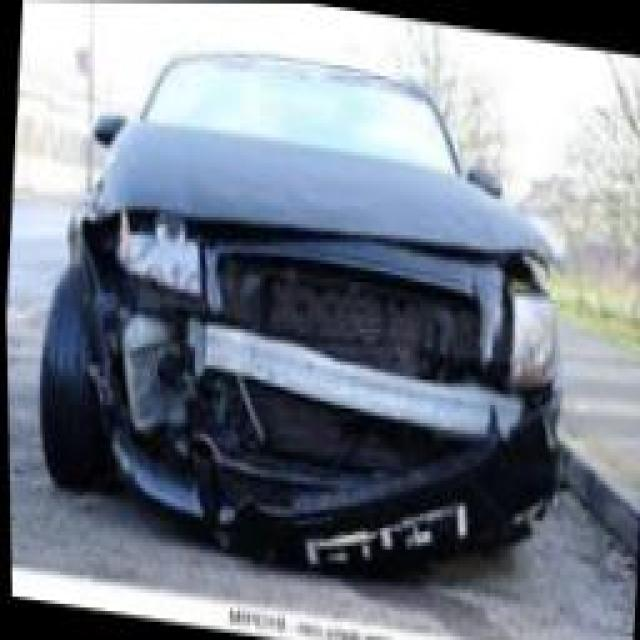Bonnet: (80, 105, 563, 297)
Bumper: (52, 304, 572, 594)
Light: (80, 206, 219, 290), (488, 278, 564, 391)
